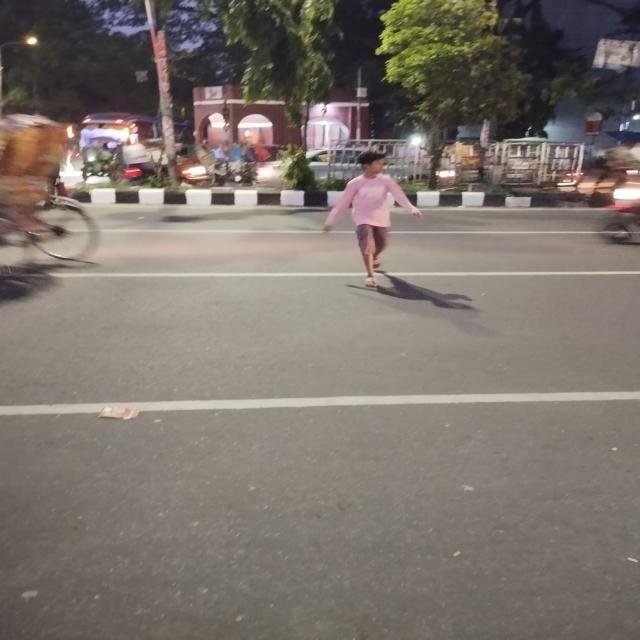person: (320, 152, 426, 293)
